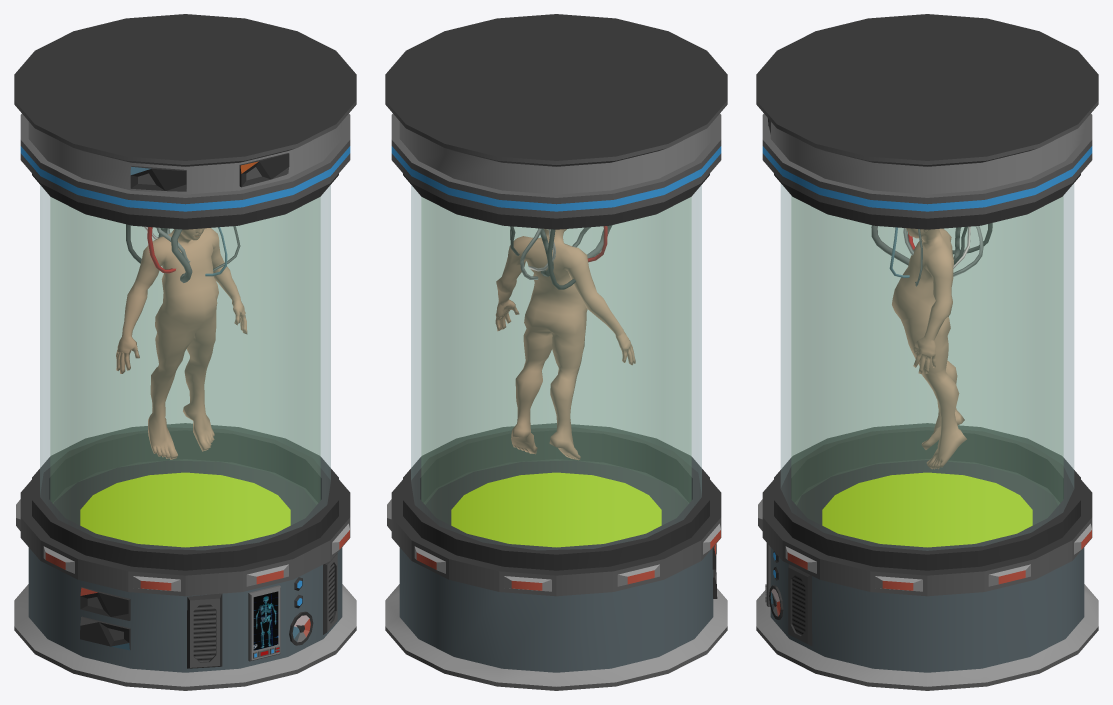
The model's file is Human_Tank_3.fbx.
The picture shows the model from 3 angles, left to right: view 1: azimuth 30°, elevation 25°; view 2: azimuth 150°, elevation 25°; view 3: azimuth 270°, elevation 25°; orthographic projection.
Visible parts, largest first — view 1: Human_Tank_3, Human3; view 2: Human_Tank_3, Human3; view 3: Human_Tank_3, Human3.
Part boxes in pixels (left/top/right/bottom): Human_Tank_3: left=14, top=14, right=356, bottom=690; Human3: left=116, top=224, right=247, bottom=459; Human_Tank_3: left=385, top=14, right=727, bottom=690; Human3: left=495, top=225, right=635, bottom=459; Human_Tank_3: left=756, top=14, right=1098, bottom=690; Human3: left=871, top=223, right=992, bottom=469.
Bounding box in the file's own units: 221 × 372 × 218.
